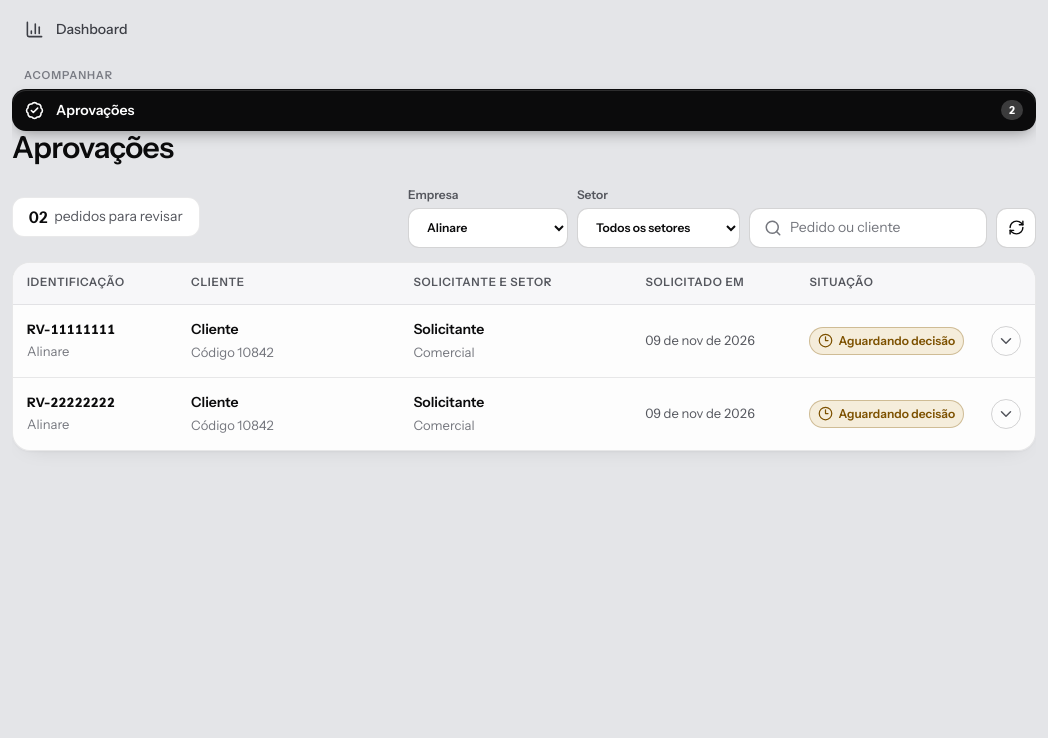
Test: contador de aprovações: página de Aprovações e decisões › a página alimenta o contador sem consulta extra e atualiza depois de aprovar
Expected: the button with aria-label "Aprovações, 2 aguardando sua análise" is shown, [12, 89, 1036, 131]
Click the button "RV-11111111": (71, 328) [13, 304, 1035, 376]
(page scrolled)
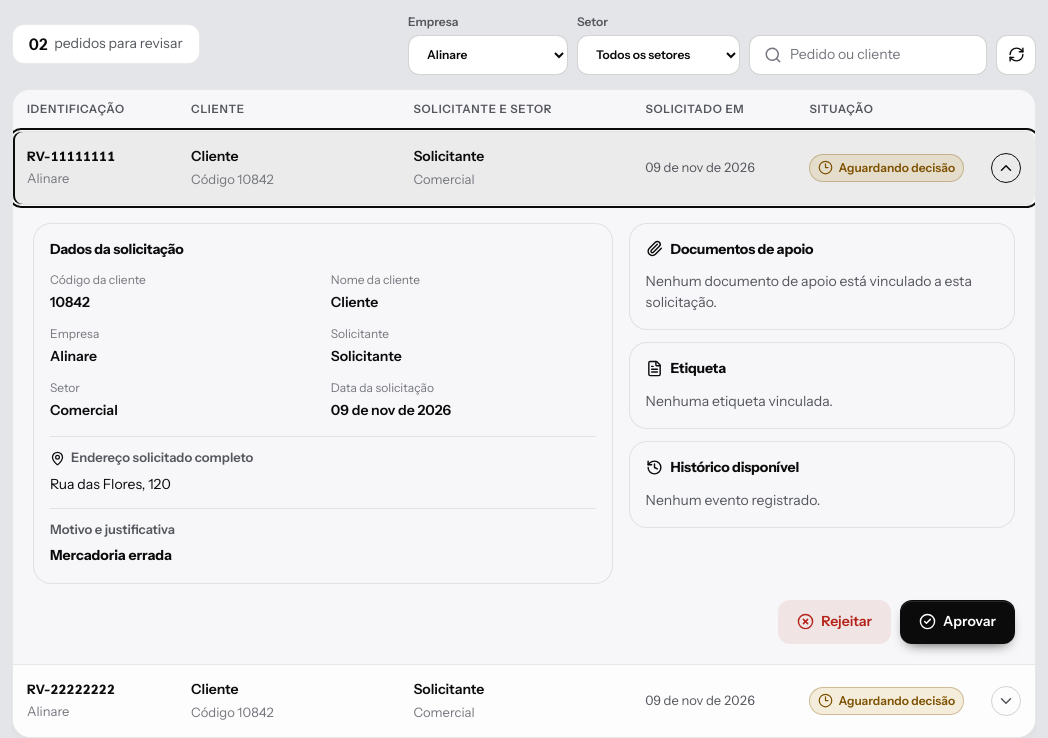
Click the button "Aprovar": (958, 622) [900, 600, 1015, 644]
(page scrolled)
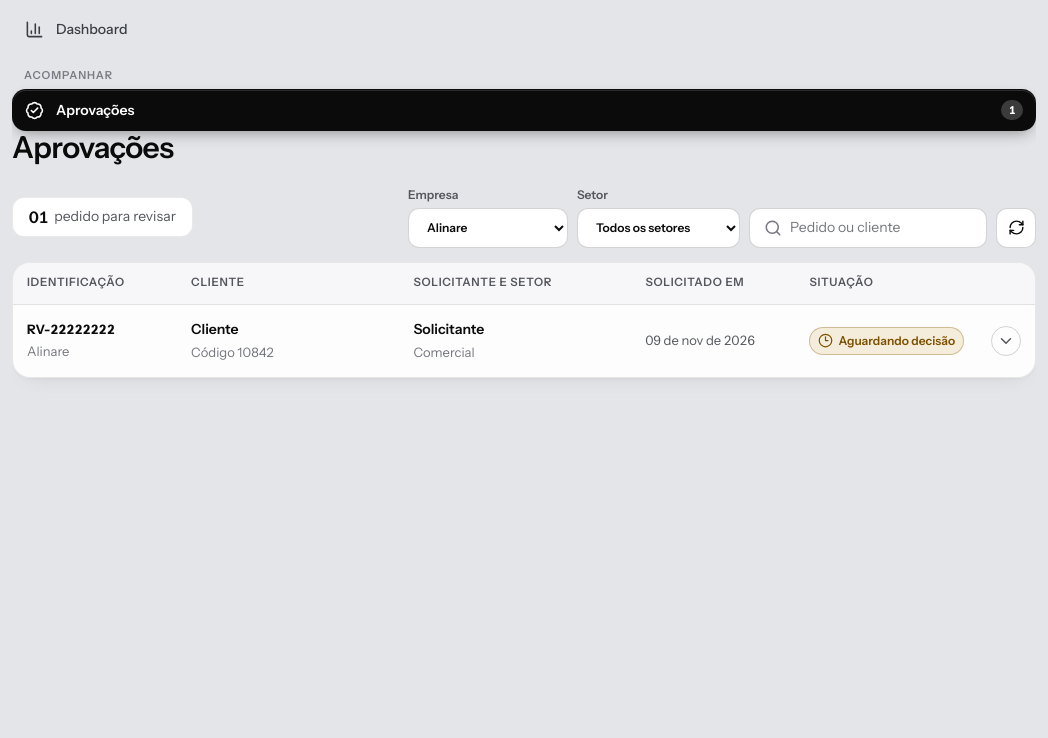
Expected: the button with aria-label "Aprovações, 1 aguardando sua análise" is shown, [12, 89, 1036, 131]
